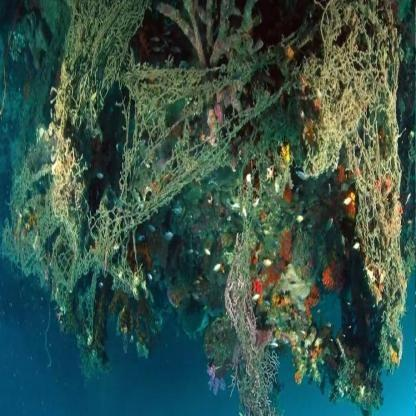net: (50, 43, 416, 235)
